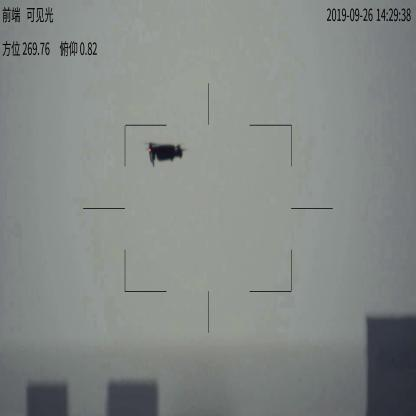uav: (142, 140, 191, 166)
